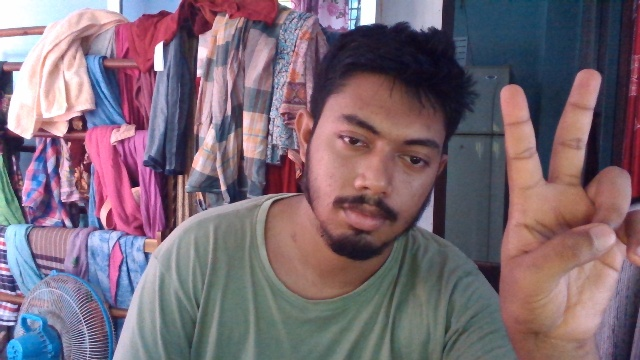thanks: (496, 64, 640, 343)
